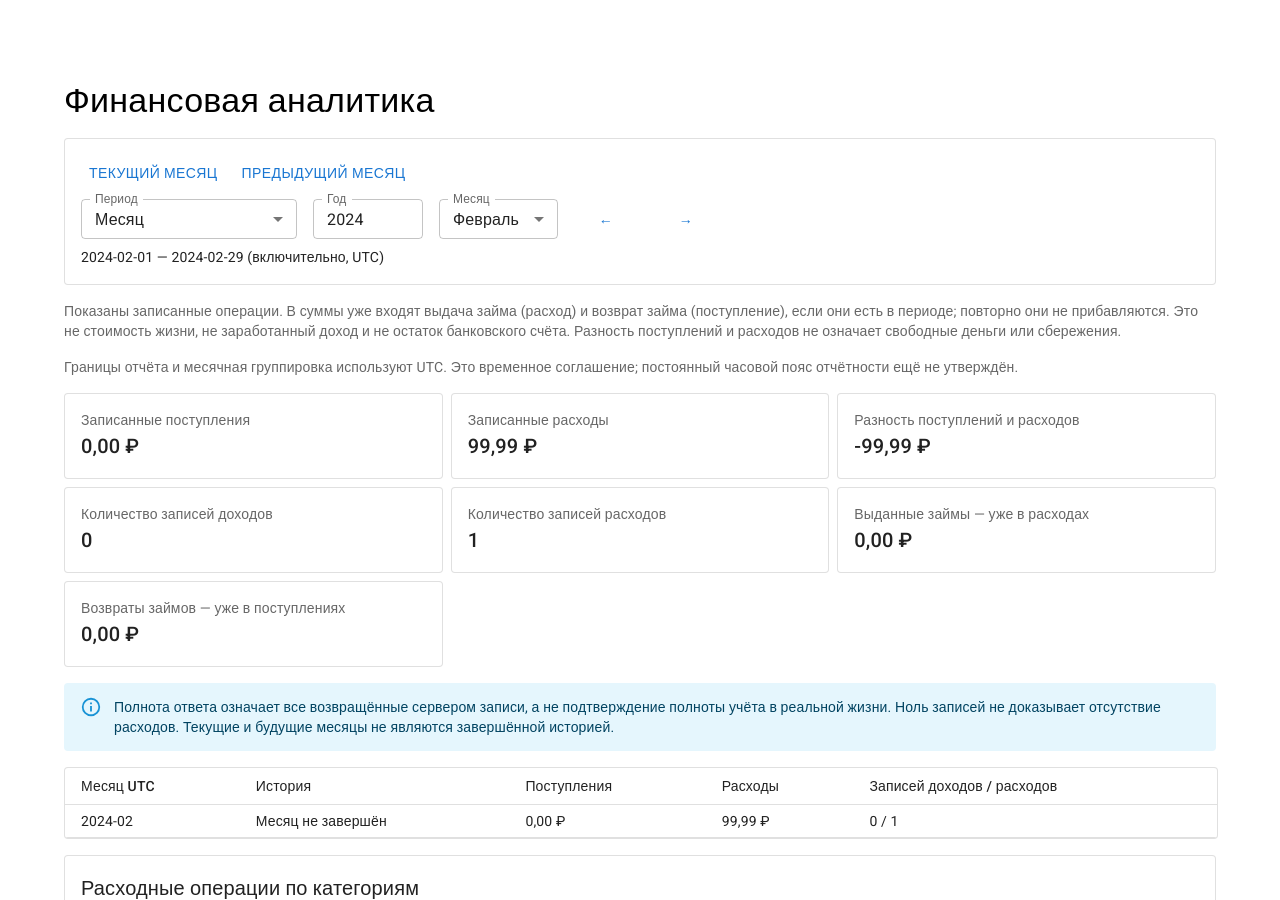
read-only AnalyticsPage with mocked RTK Query transport › never displays old-period totals while waiting for both responses of a new period
expect the text "Записанные поступления" is shown: met, box [81,412,250,428]
Select "Март" in the dropdown labelled "Месяц" at (498, 220), box [439,200,558,240]
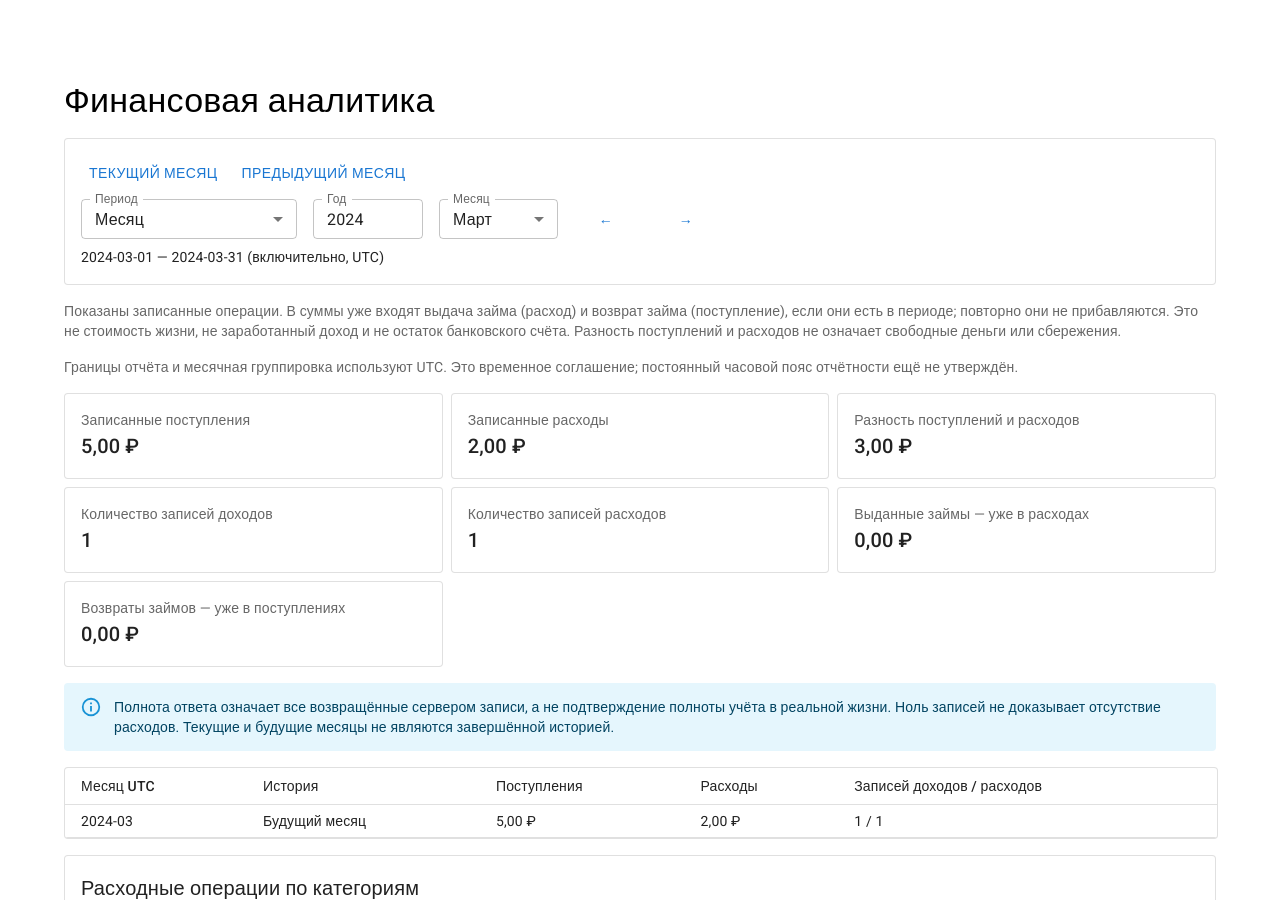
expect the text "Записанные поступления" is shown: met, box [81,412,250,428]
expect the heading "3,00 ₽" is shown: met, box [854,434,912,458]
expect the heading "99,99 ₽" is gone: met
